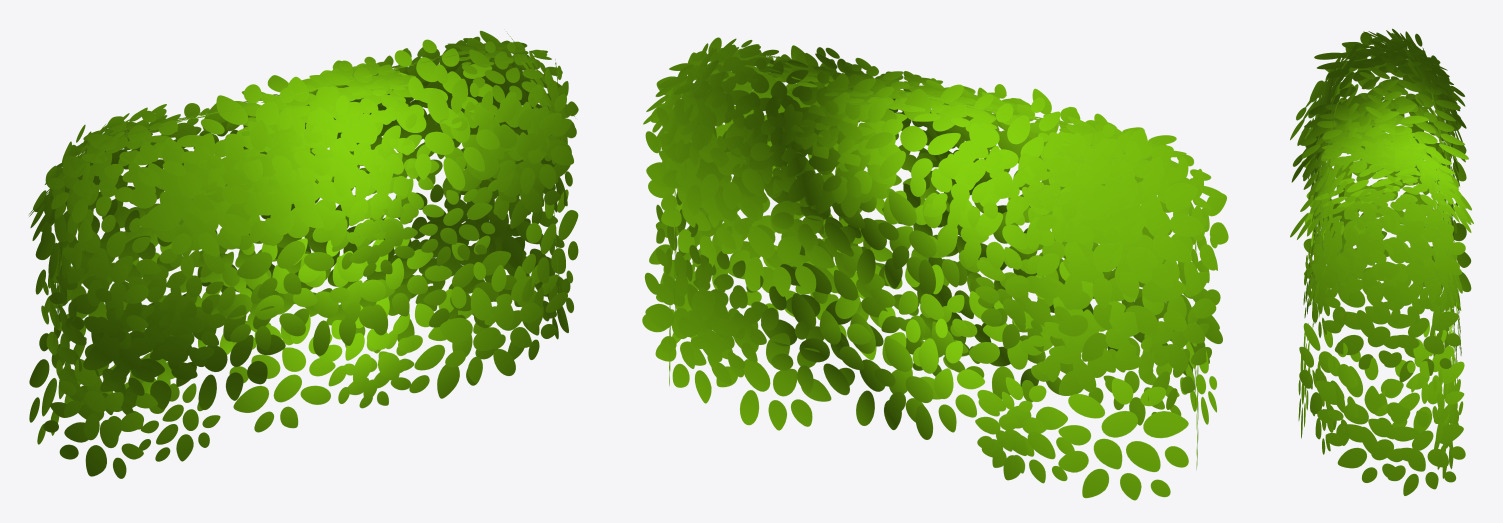
Rendered from bush-large.glb.
3 renders of one model, left to right at view 1: azimuth 30°, elevation 25°; view 2: azimuth 150°, elevation 25°; view 3: azimuth 270°, elevation 25°, orthographic. The views are drawn at different scales.
Visible parts, largest first — view 1: Bush_Large; view 2: Bush_Large; view 3: Bush_Large.
Boxes of the visible parts, box(x1,y1,x2,y2) form: Bush_Large: box(29, 30, 578, 478); Bush_Large: box(642, 37, 1228, 500); Bush_Large: box(1290, 28, 1473, 495).
Size of the model in its own units: 1.9 by 1.22 by 0.7238.
Materials: 1 (1 with a texture image).
